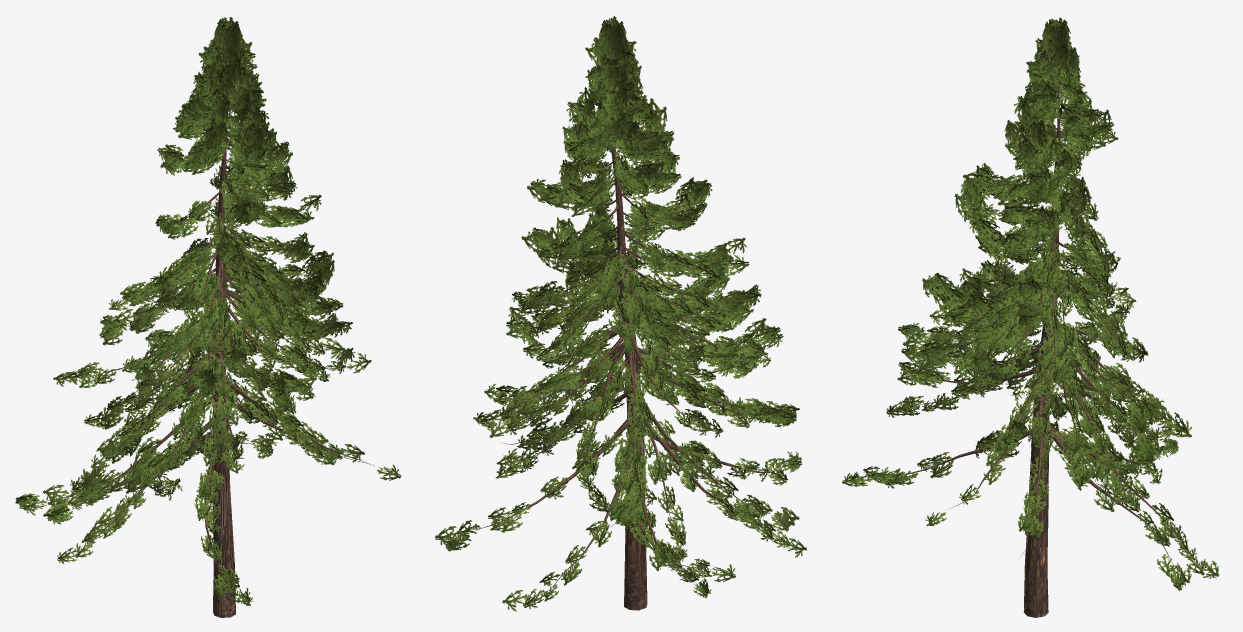
3 renders of one model, left to right at view 1: azimuth 30°, elevation 25°; view 2: azimuth 150°, elevation 25°; view 3: azimuth 270°, elevation 25°, orthographic. The views are drawn at different scales.
Parts seen in each view (by area): view 1: branches, branches.001; view 2: branches, branches.001; view 3: branches, branches.001.
Part boxes in pixels (<box>): branches: <box>15,17,401,605</box>; branches.001: <box>45,112,374,617</box>; branches: <box>435,16,806,611</box>; branches.001: <box>463,90,787,610</box>; branches: <box>842,17,1219,590</box>; branches.001: <box>861,77,1199,617</box>.
Size of the model in its own units: 16.8 by 30 by 17.54.
2 materials, 2 textured.
